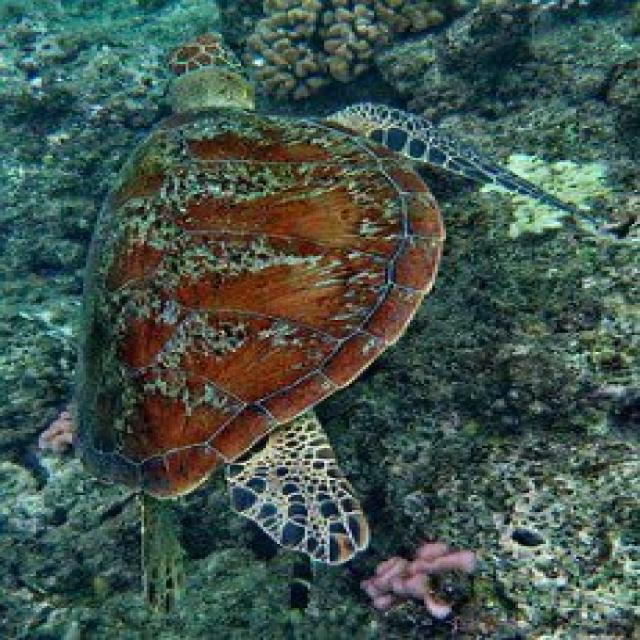Sea turtle: (52, 47, 575, 601)
